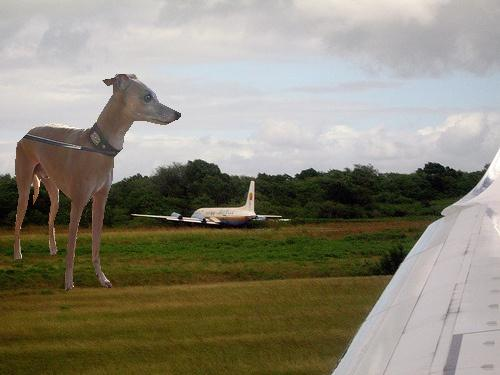tampered: (15, 75, 181, 291)
